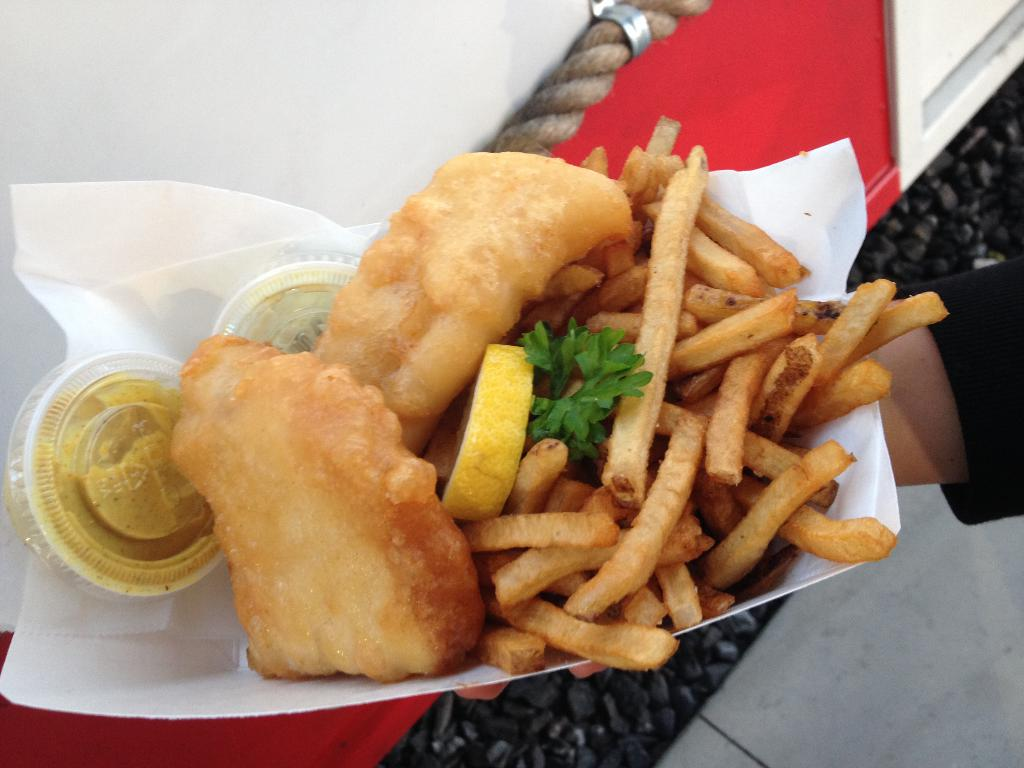French fries: (382, 153, 902, 685)
